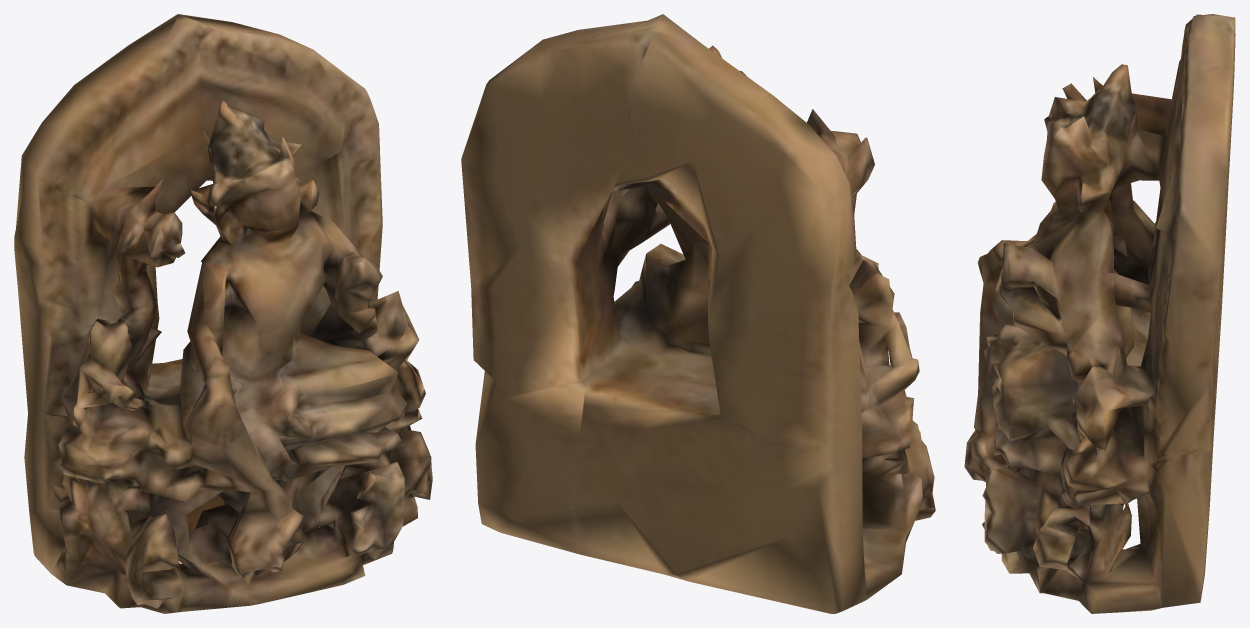
File: cma-pala-kaolin-khasarpana.lod1.glb
3 renders of one model, left to right at view 1: azimuth 30°, elevation 25°; view 2: azimuth 150°, elevation 25°; view 3: azimuth 270°, elevation 25°, orthographic. The views are drawn at different scales.
Parts seen in each view (by area): view 1: 1991.155_bodhisattva_of_compassion; view 2: 1991.155_bodhisattva_of_compassion; view 3: 1991.155_bodhisattva_of_compassion.
Boxes of the visible parts, x1=… form: 1991.155_bodhisattva_of_compassion: x1=14, y1=14, x2=432, y2=613; 1991.155_bodhisattva_of_compassion: x1=461, y1=14, x2=935, y2=613; 1991.155_bodhisattva_of_compassion: x1=964, y1=14, x2=1235, y2=613.
Bounding box in the file's own units: 0.0561 × 0.0759 × 0.0359.
1 material, 1 textured.
